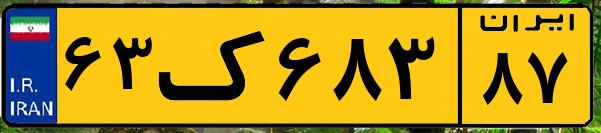3: (385, 28, 445, 110), (110, 28, 158, 98)
6: (270, 28, 330, 110), (57, 26, 110, 100)
7: (525, 38, 570, 115)
8: (330, 28, 385, 110), (475, 38, 525, 113)
ک: (158, 12, 270, 120)
